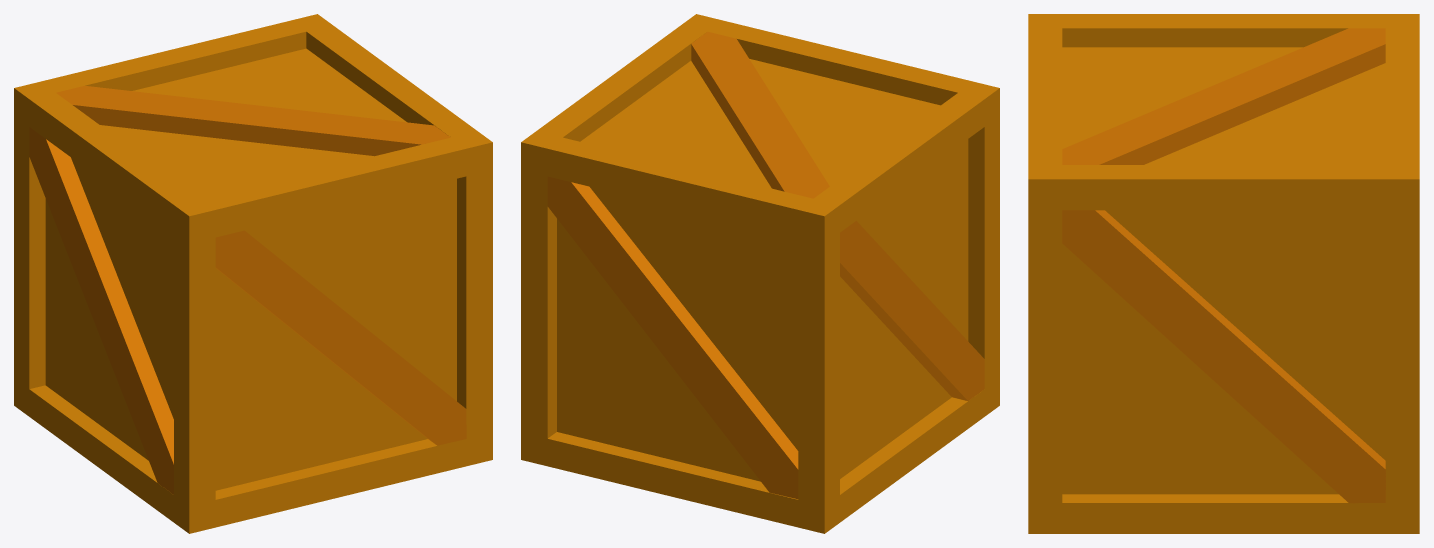
3 views of the same model, side by side, from view 1: azimuth 30°, elevation 25°; view 2: azimuth 150°, elevation 25°; view 3: azimuth 270°, elevation 25° (orthographic). The views are drawn at different scales.
Visible parts, largest first — view 1: Cube; view 2: Cube; view 3: Cube.
Part boxes in pixels (x1,y1,x2,y2): Cube: (14, 14, 492, 533); Cube: (521, 14, 999, 533); Cube: (1028, 14, 1419, 533).
Size of the model in its own units: 200 by 200 by 200.
